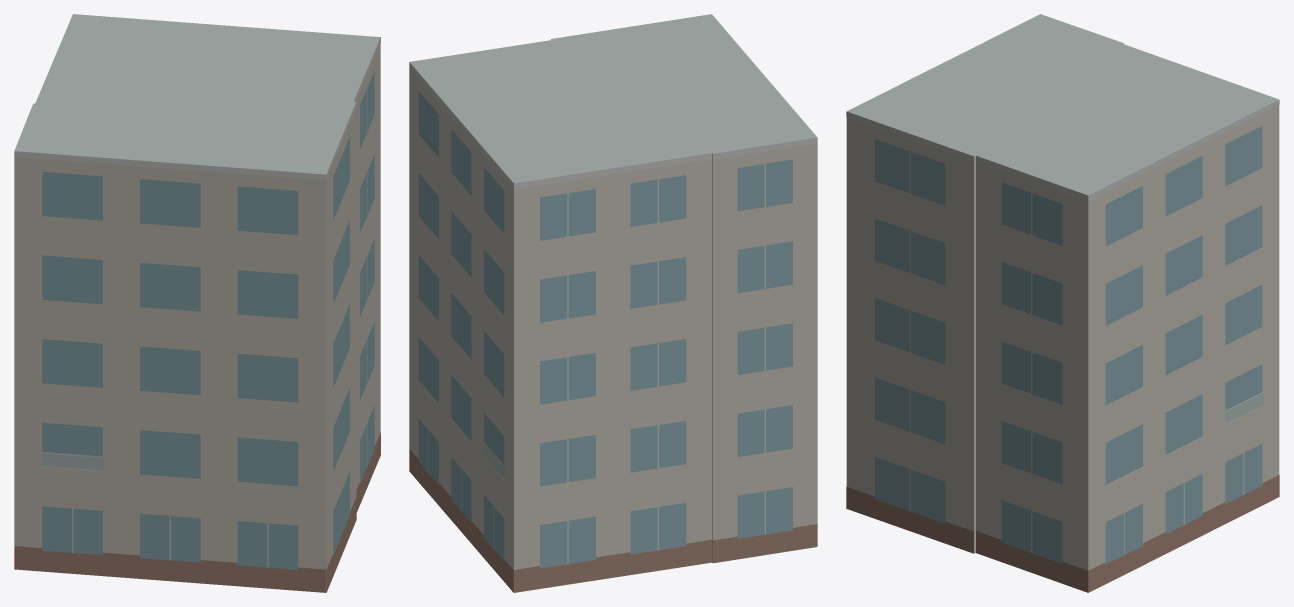
The model's file is survey-upis-32893366.glb.
3 views of the same model, side by side, from view 1: azimuth 30°, elevation 25°; view 2: azimuth 150°, elevation 25°; view 3: azimuth 270°, elevation 25° (orthographic). The views are drawn at different scales.
Visible parts, largest first — view 1: survey-upis-32893366.tmp; view 2: survey-upis-32893366.tmp; view 3: survey-upis-32893366.tmp.
Part boxes in pixels (left/top/right/bottom): survey-upis-32893366.tmp: left=14, top=14, right=380, bottom=592; survey-upis-32893366.tmp: left=409, top=14, right=817, bottom=592; survey-upis-32893366.tmp: left=846, top=14, right=1279, bottom=592.
Size of the model in its own units: 16.47 by 16.8 by 16.6.
